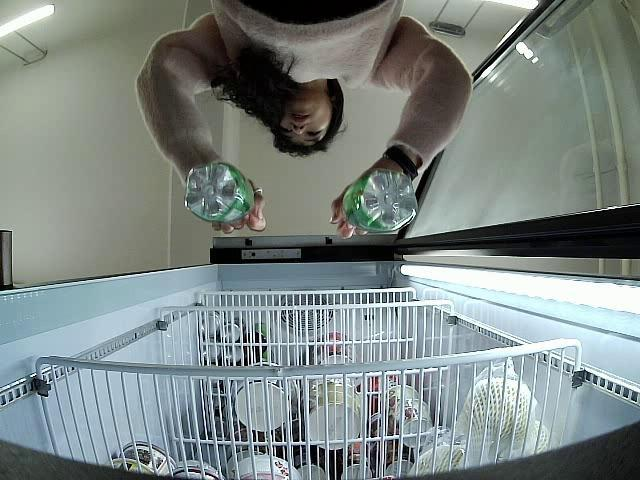18_trevi: (343, 172, 418, 234), (184, 162, 256, 225)
